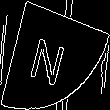N_N: (33, 25, 77, 85)
